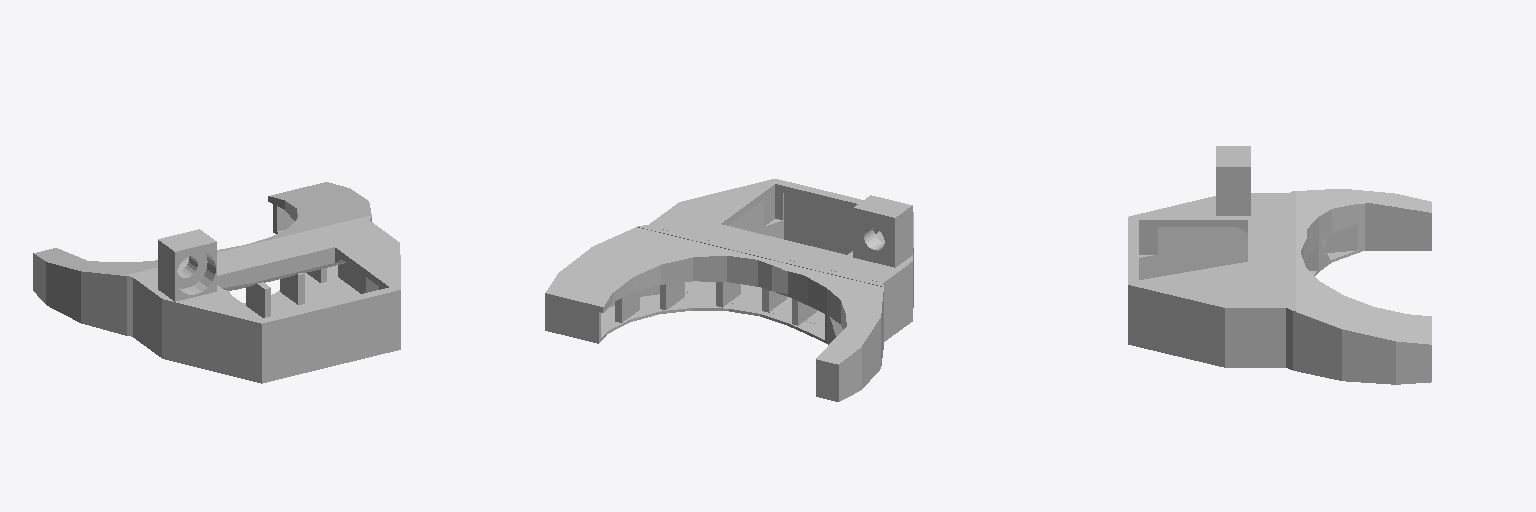
Rendered from FanHolder.obj.
The picture shows the model from 3 angles: view 1: azimuth 30°, elevation 25°; view 2: azimuth 150°, elevation 25°; view 3: azimuth 270°, elevation 25°; orthographic projection.
Visible parts, largest first — view 1: Fan_Sink; view 2: Fan_Sink; view 3: Fan_Sink.
Boxes of the visible parts, <box> form: Fan_Sink: <box>33,182,400,383</box>; Fan_Sink: <box>545,179,913,401</box>; Fan_Sink: <box>1128,146,1431,384</box>.
Bounding box in the file's own units: 47.7 × 16.51 × 41.46.